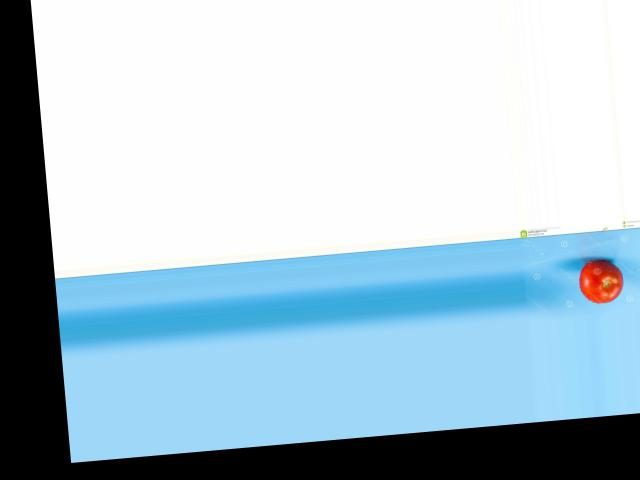tomato: (577, 258, 626, 304)
